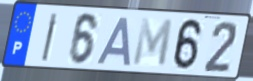2: (202, 19, 240, 75)
6: (66, 12, 102, 67), (172, 17, 205, 73)
A: (95, 15, 133, 68)
I: (39, 11, 60, 64)
M: (131, 16, 175, 70)
